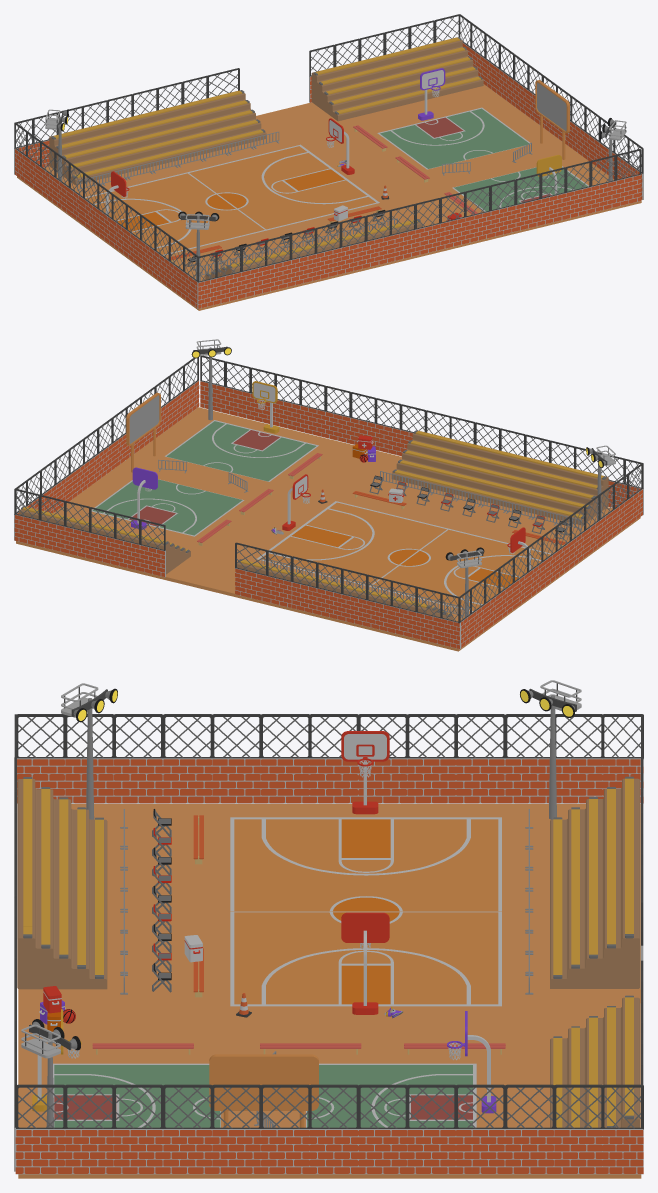
File: BASKETBALL.gltf
3 views of the same model, one above another, from view 1: azimuth 30°, elevation 25°; view 2: azimuth 150°, elevation 25°; view 3: azimuth 270°, elevation 25° (orthographic). The views are drawn at different scales.
Visible parts, largest first — view 1: Link E, Fans Tribune B (×3), Basketball Playground, Basketball Playground (1), Basketball Street Playground, Basketball Street Playground (1), Scoreboard B, Fans Tribune C (×2), Fans Tribune A (2), Fans Tribune A (1), Wall Bricks A (13), Wall Bricks A (14) (+22 smaller); view 2: Link E, Fans Tribune B (×3), Basketball Playground, Basketball Playground (1), Basketball Street Playground (1), Basketball Street Playground, Scoreboard B, Fans Tribune C, Wall Bricks A (42), Spotlight Stadium Big (1), Wall Bricks A (40), Wall Bricks A (4) (+27 smaller); view 3: Link E, Fans Tribune B (×3), Basketball Playground (1), Basketball Playground, Grid B (×25), Basketball Street Playground, Basketball Street Playground (1), Scoreboard B, Fans Tribune C (×2), Basketball Hoop Stand Red (×2), Fans Tribune A, Wall Bricks A (49) (+30 smaller).
Part boxes in pixels (x1,y1,x2,y2): Link E: (17, 84, 641, 310); Fans Tribune B (×3): (62, 39, 474, 270); Basketball Playground: (187, 144, 379, 230); Basketball Playground (1): (85, 172, 266, 255); Basketball Street Playground: (377, 107, 530, 169); Basketball Street Playground (1): (452, 166, 588, 211); Scoreboard B: (535, 80, 569, 159); Fans Tribune C (×2): (230, 37, 483, 141); Fans Tribune A (2): (311, 70, 346, 121); Fans Tribune A (1): (49, 134, 86, 185); Wall Bricks A (13): (341, 242, 366, 273); Wall Bricks A (14): (291, 254, 316, 286); Link E: (16, 407, 640, 651); Fans Tribune B (×3): (27, 433, 596, 610); Basketball Playground: (256, 501, 448, 586); Basketball Playground (1): (370, 528, 550, 611); Basketball Street Playground (1): (165, 420, 318, 481); Basketball Street Playground: (91, 479, 244, 536); Scoreboard B: (126, 392, 160, 472); Fans Tribune C: (572, 474, 608, 525); Wall Bricks A (42): (235, 568, 266, 601); Spotlight Stadium Big (1): (191, 339, 231, 420); Wall Bricks A (40): (140, 545, 165, 577); Wall Bricks A (4): (300, 405, 325, 437); Link E: (18, 804, 641, 1178); Fans Tribune B (×3): (17, 786, 639, 1127); Basketball Playground (1): (230, 817, 501, 911); Basketball Playground: (230, 912, 501, 1006); Grid B (×25): (16, 714, 643, 1129); Basketball Street Playground: (306, 1063, 476, 1127); Basketball Street Playground (1): (53, 1063, 220, 1127); Scoreboard B: (209, 1054, 318, 1127); Fans Tribune C (×2): (17, 777, 639, 988); Basketball Hoop Stand Red (×2): (341, 731, 389, 1014); Fans Tribune A: (17, 927, 107, 989); Wall Bricks A (49): (15, 1128, 65, 1174).
Bounding box in the file's own units: 81.58 × 13.45 × 58.36.
Materials: 2 (2 with a texture image).
